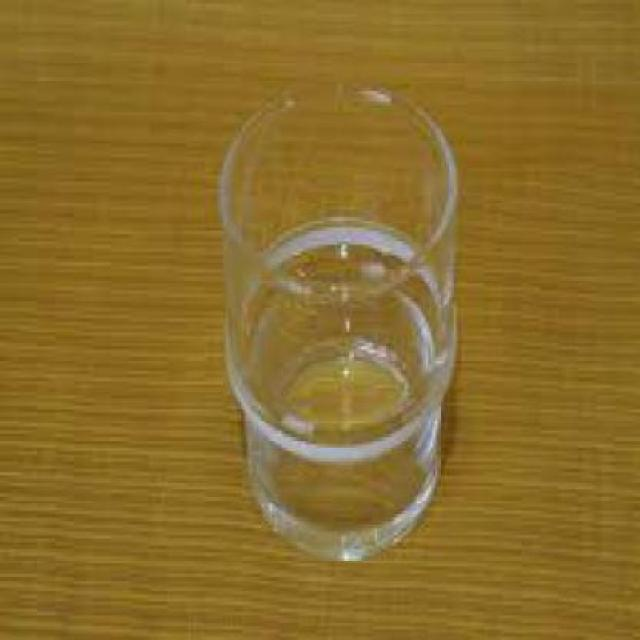kaca: (214, 77, 454, 552)
